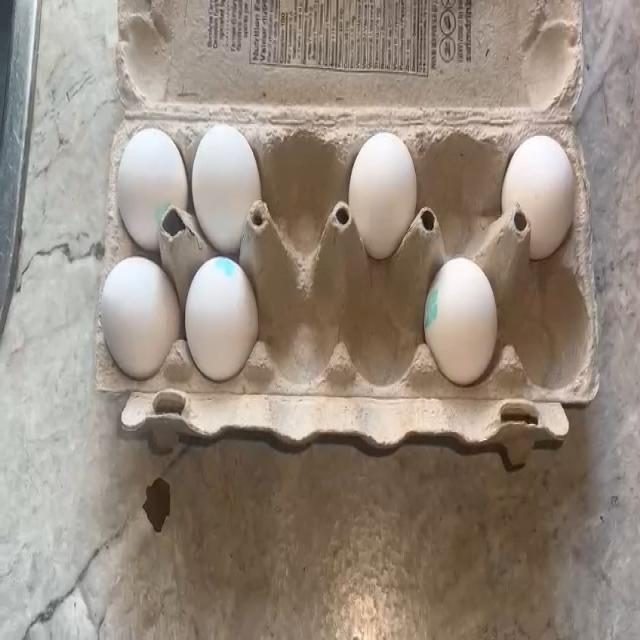Egg: (498, 128, 576, 259), (186, 252, 264, 381), (108, 256, 174, 368), (352, 123, 412, 234), (428, 262, 496, 356), (120, 118, 178, 228), (198, 116, 254, 225)
